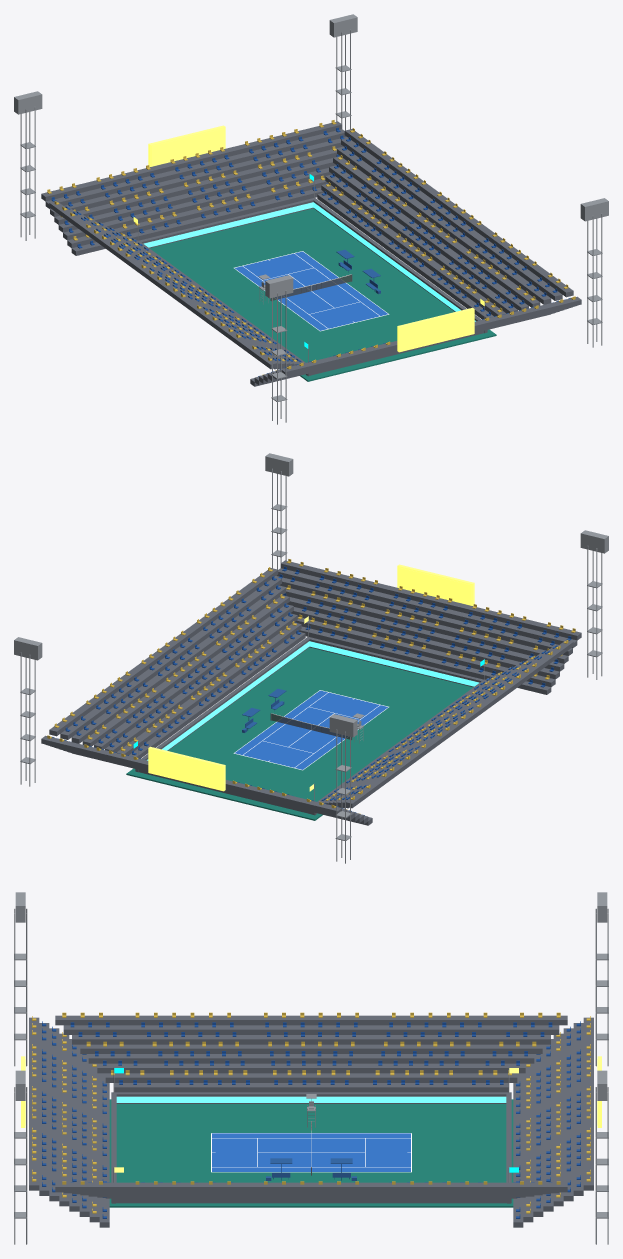
The model's file is dynamic_field_tennis.glb.
3 views of the same model, one above another, from view 1: azimuth 30°, elevation 25°; view 2: azimuth 150°, elevation 25°; view 3: azimuth 270°, elevation 25° (orthographic). The views are drawn at different scales.
Visible parts, largest first — view 1: Arena_Stands_Concrete, Court_Apron, Floodlight_Pylons, Arena_Seats_Blue, Court_Inner, Arena_Scoreboards, Arena_Seats_Gold, Arena_BoundaryWalls, Arena_LED_Ribbons, Court_ChalkLines; view 2: Arena_Stands_Concrete, Court_Apron, Floodlight_Pylons, Arena_Seats_Blue, Court_Inner, Arena_Scoreboards, Arena_Seats_Gold, Arena_BoundaryWalls, Arena_LED_Ribbons, Court_ChalkLines; view 3: Arena_Stands_Concrete, Court_Apron, Court_Inner, Arena_Seats_Blue, Arena_BoundaryWalls, Floodlight_Pylons, Arena_Seats_Gold, Arena_LED_Ribbons, Court_ChalkLines, Player_Benches.
Part boxes in pixels (<box>): Arena_Stands_Concrete: <box>41,121,581,386</box>; Court_Apron: <box>150,208,496,381</box>; Floodlight_Pylons: <box>14,14,608,424</box>; Arena_Seats_Blue: <box>51,127,570,376</box>; Court_Inner: <box>234,251,387,330</box>; Arena_Scoreboards: <box>148,125,474,352</box>; Arena_Seats_Gold: <box>47,120,575,375</box>; Arena_BoundaryWalls: <box>138,198,487,376</box>; Arena_LED_Ribbons: <box>143,202,475,321</box>; Court_ChalkLines: <box>234,251,389,331</box>; Arena_Stands_Concrete: <box>41,560,581,825</box>; Court_Apron: <box>126,647,472,820</box>; Floodlight_Pylons: <box>14,453,608,863</box>; Arena_Seats_Blue: <box>52,566,571,815</box>; Court_Inner: <box>235,690,388,769</box>; Arena_Scoreboards: <box>148,564,474,791</box>; Arena_Seats_Gold: <box>47,559,575,814</box>; Arena_BoundaryWalls: <box>135,637,484,815</box>; Arena_LED_Ribbons: <box>147,641,479,760</box>; Court_ChalkLines: <box>233,690,388,770</box>; Arena_Stands_Concrete: <box>29,1015,593,1227</box>; Court_Apron: <box>109,1099,513,1207</box>; Court_Inner: <box>212,1133,410,1171</box>; Arena_Seats_Blue: <box>42,1021,580,1218</box>; Arena_BoundaryWalls: <box>111,1092,511,1203</box>; Floodlight_Pylons: <box>14,892,608,1244</box>; Arena_Seats_Gold: <box>32,1012,590,1213</box>; Arena_LED_Ribbons: <box>116,1096,506,1102</box>; Court_ChalkLines: <box>211,1133,411,1172</box>; Player_Benches: <box>266,1158,356,1180</box>.
Bounding box in the file's own units: 54 × 21.8 × 70.8.
